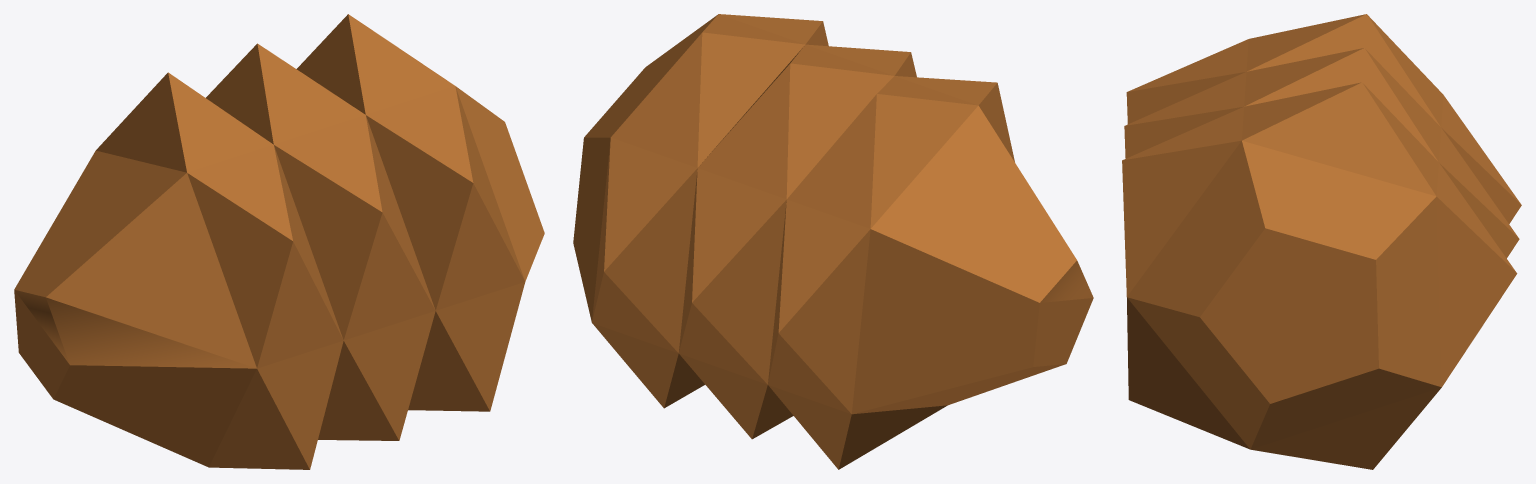
File: copper_mace_head.glb
The picture shows the model from 3 angles, left to right: view 1: azimuth 30°, elevation 25°; view 2: azimuth 150°, elevation 25°; view 3: azimuth 270°, elevation 25°; orthographic projection. The views are drawn at different scales.
Parts seen in each view (by area): view 1: copper_mace_head; view 2: copper_mace_head; view 3: copper_mace_head.
Boxes of the visible parts, x1,y1,x2,y2 form: copper_mace_head: (14,14,544,469); copper_mace_head: (573,14,1093,469); copper_mace_head: (1122,14,1521,469).
Bounding box in the file's own units: 0.1846 × 0.1524 × 0.1422.
